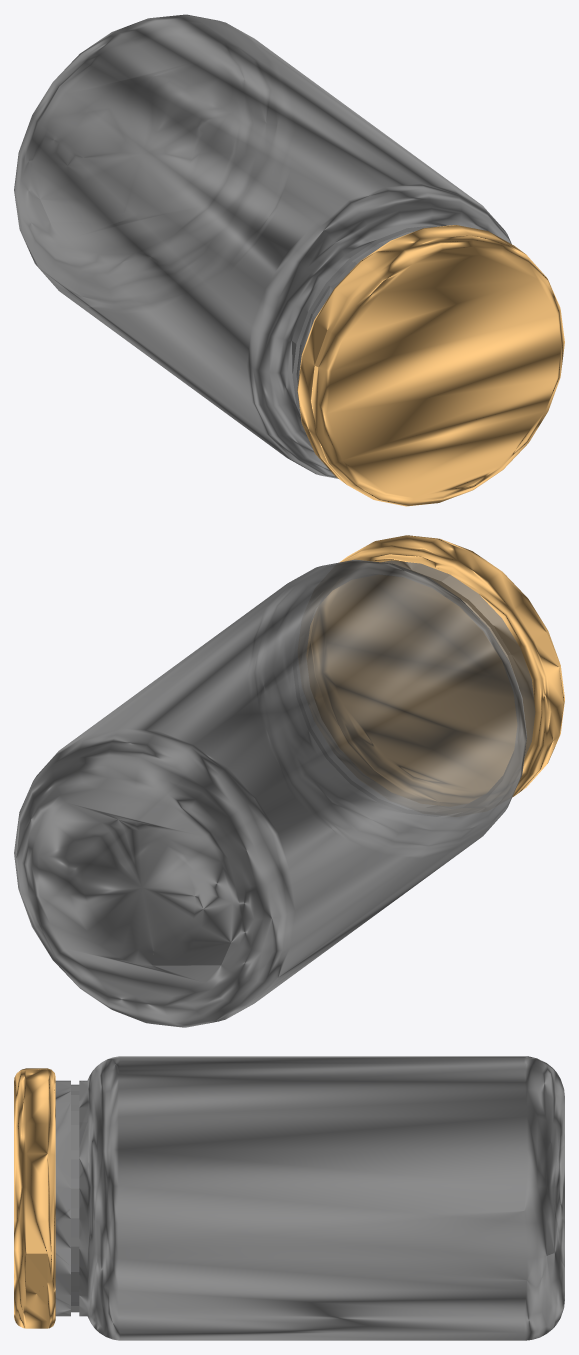
File: model_align.obj
The picture shows the model from 3 angles, top to bottom: view 1: azimuth 30°, elevation 25°; view 2: azimuth 150°, elevation 25°; view 3: azimuth 270°, elevation 25°; orthographic projection. The views are drawn at different scales.
Size of the model in its own units: 0.0885 by 0.0885 by 0.1707.
